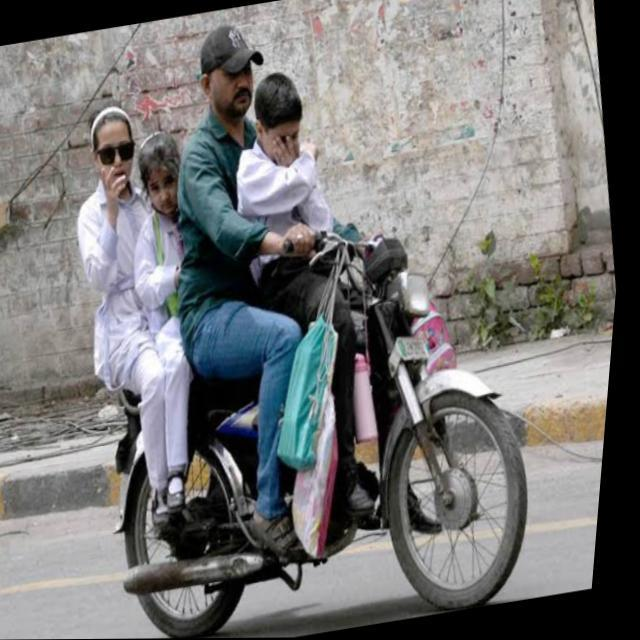Nonhelmet: (182, 23, 270, 127), (236, 65, 316, 167), (132, 123, 196, 225), (82, 101, 142, 202)
